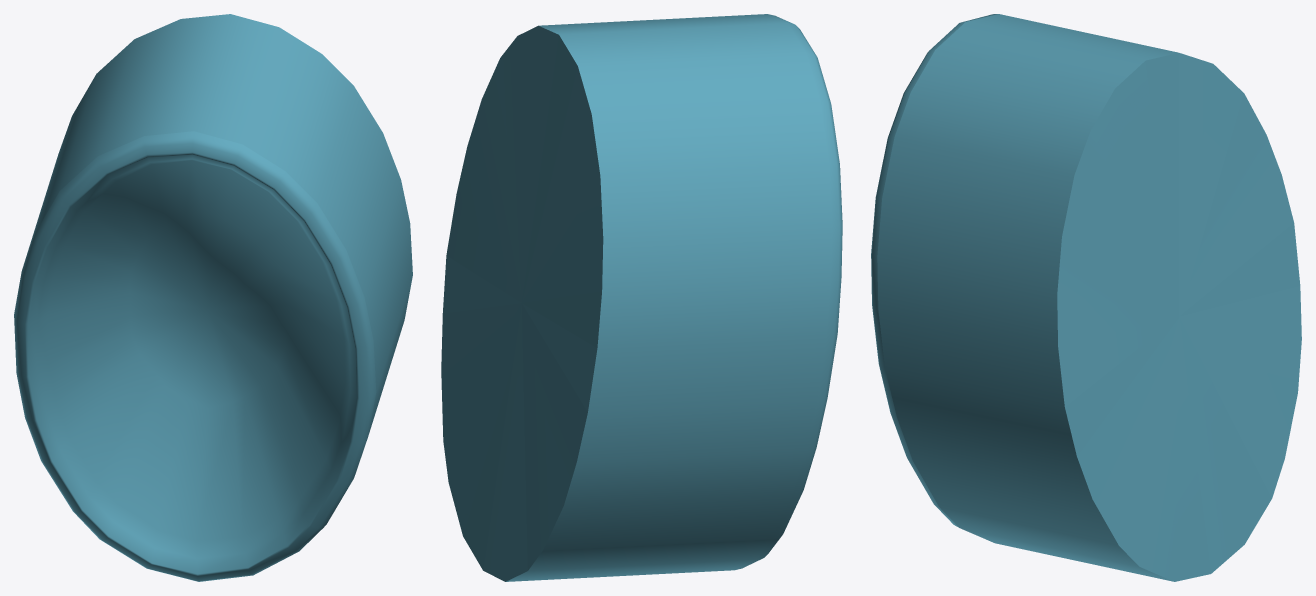
File: BL3_8shapes_Oval_Classic_Metal.001 3.glb
The picture shows the model from 3 angles, left to right: view 1: azimuth 30°, elevation 25°; view 2: azimuth 150°, elevation 25°; view 3: azimuth 270°, elevation 25°; orthographic projection. The views are drawn at different scales.
Parts seen in each view (by area): view 1: BL3_8shapes_Oval_Classic_Metal.001; view 2: BL3_8shapes_Oval_Classic_Metal.001; view 3: BL3_8shapes_Oval_Classic_Metal.001.
Part boxes in pixels (left/top/right/bottom): BL3_8shapes_Oval_Classic_Metal.001: left=14, top=14, right=412, bottom=581; BL3_8shapes_Oval_Classic_Metal.001: left=441, top=14, right=842, bottom=581; BL3_8shapes_Oval_Classic_Metal.001: left=871, top=14, right=1301, bottom=581.
Size of the model in its own units: 0.537 by 0.683 by 0.5149.
